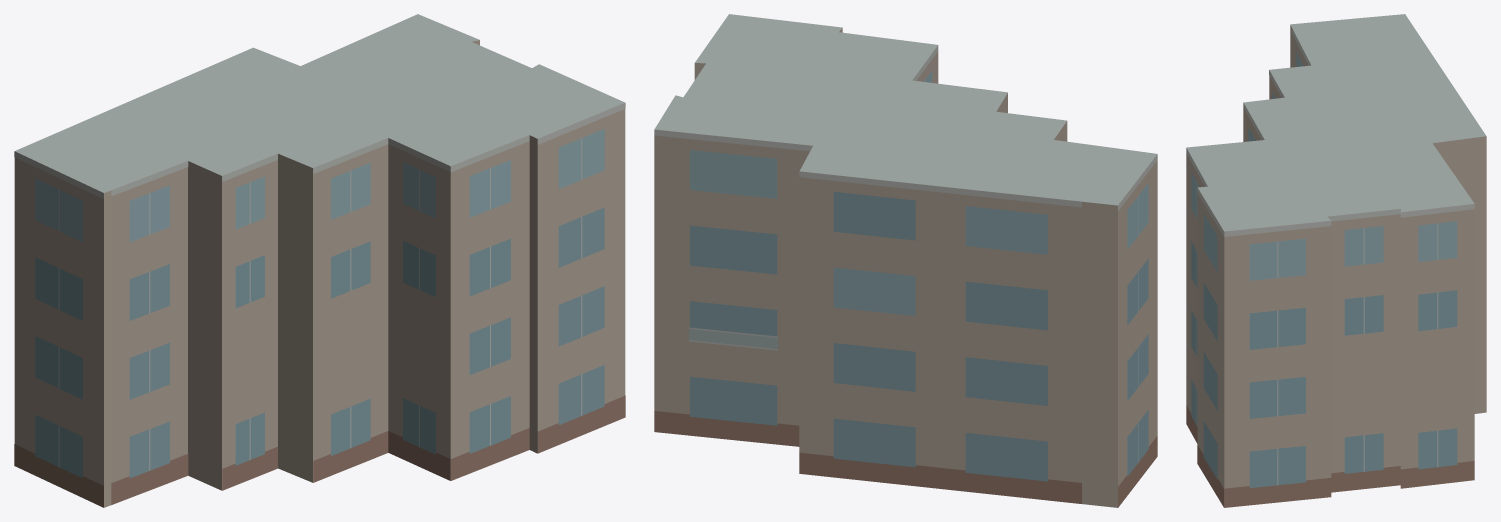
File: survey-upis-32588317.glb
3 renders of one model, left to right at view 1: azimuth 30°, elevation 25°; view 2: azimuth 150°, elevation 25°; view 3: azimuth 270°, elevation 25°, orthographic. The views are drawn at different scales.
Visible parts, largest first — view 1: survey-upis-32588317.tmp; view 2: survey-upis-32588317.tmp; view 3: survey-upis-32588317.tmp.
Boxes of the visible parts, x1,y1,x2,y2 form: survey-upis-32588317.tmp: (14, 14, 625, 507); survey-upis-32588317.tmp: (654, 14, 1157, 507); survey-upis-32588317.tmp: (1186, 14, 1486, 507).
Bounding box in the file's own units: 21.28 × 12.6 × 12.42.
